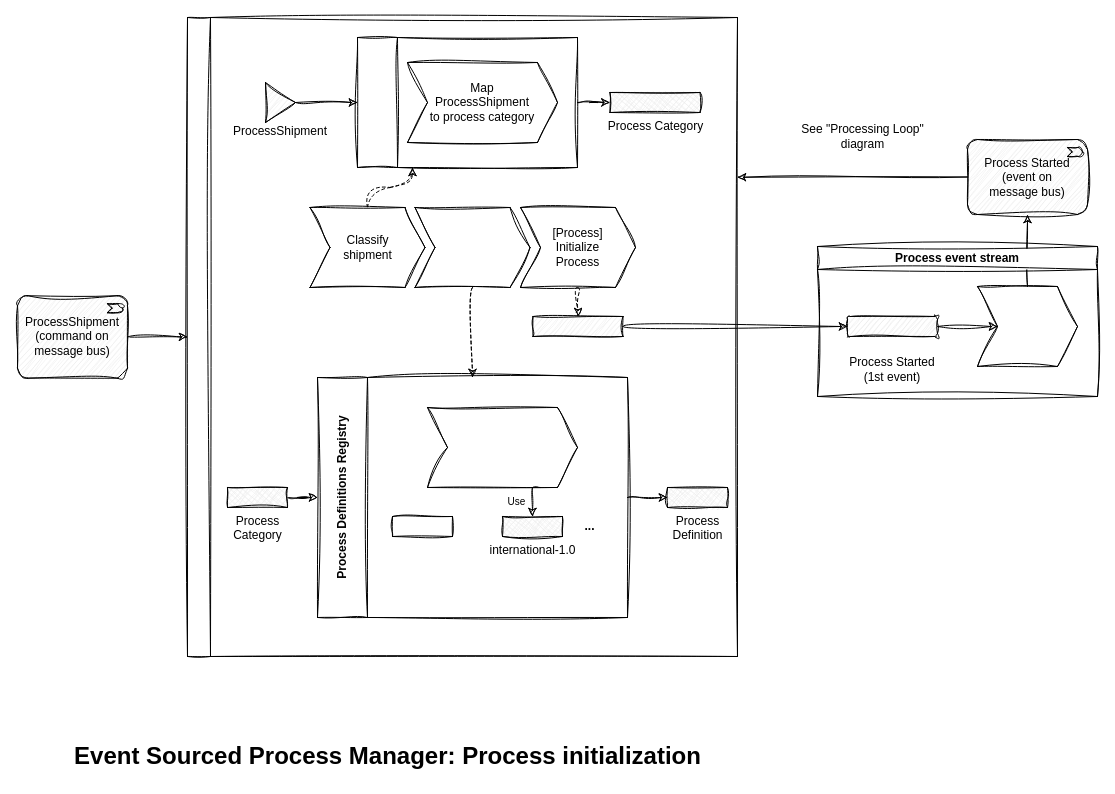
This 1115x794 diagram has some shape labels left out. The box of each missing label's shape, as (x1, y1, x2, y2) in pixels:
Classifier: (356, 36, 578, 168)
domestic-1.0: (392, 516, 452, 536)
Get by process category: (426, 406, 578, 488)
Get process definition by category: (414, 206, 530, 288)
Process Manager: (186, 16, 738, 656)
Process Started: (532, 316, 623, 336)
Publish: (976, 286, 1078, 366)
